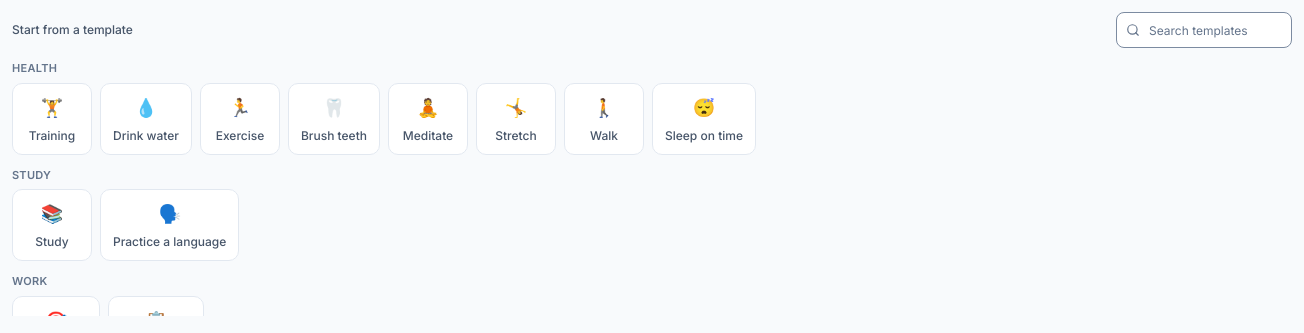
it: HabitTemplateSelector › filters templates by label
Type "journal" into the search field labelled "Search templates" at {"x": 1204, "y": 30}, box [1116,12,1292,48]
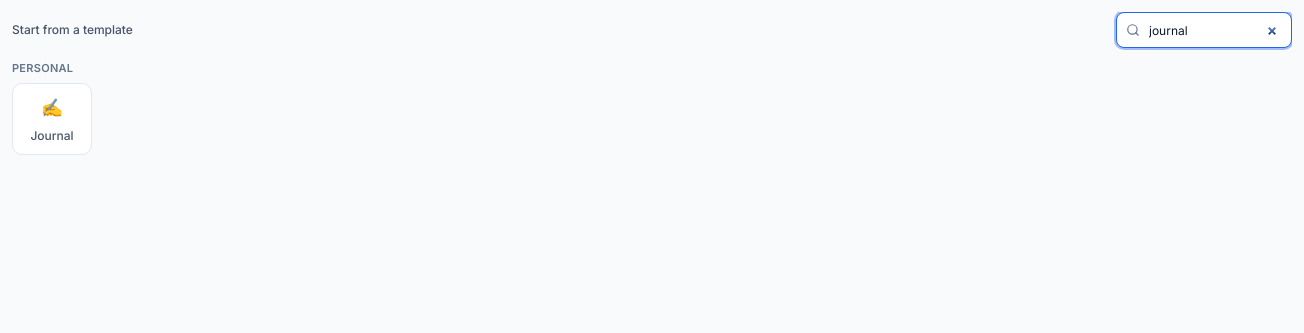
Now the button "✍️ Journal" is shown, box [12,82,92,154]
Now the button "Meditate" is gone
